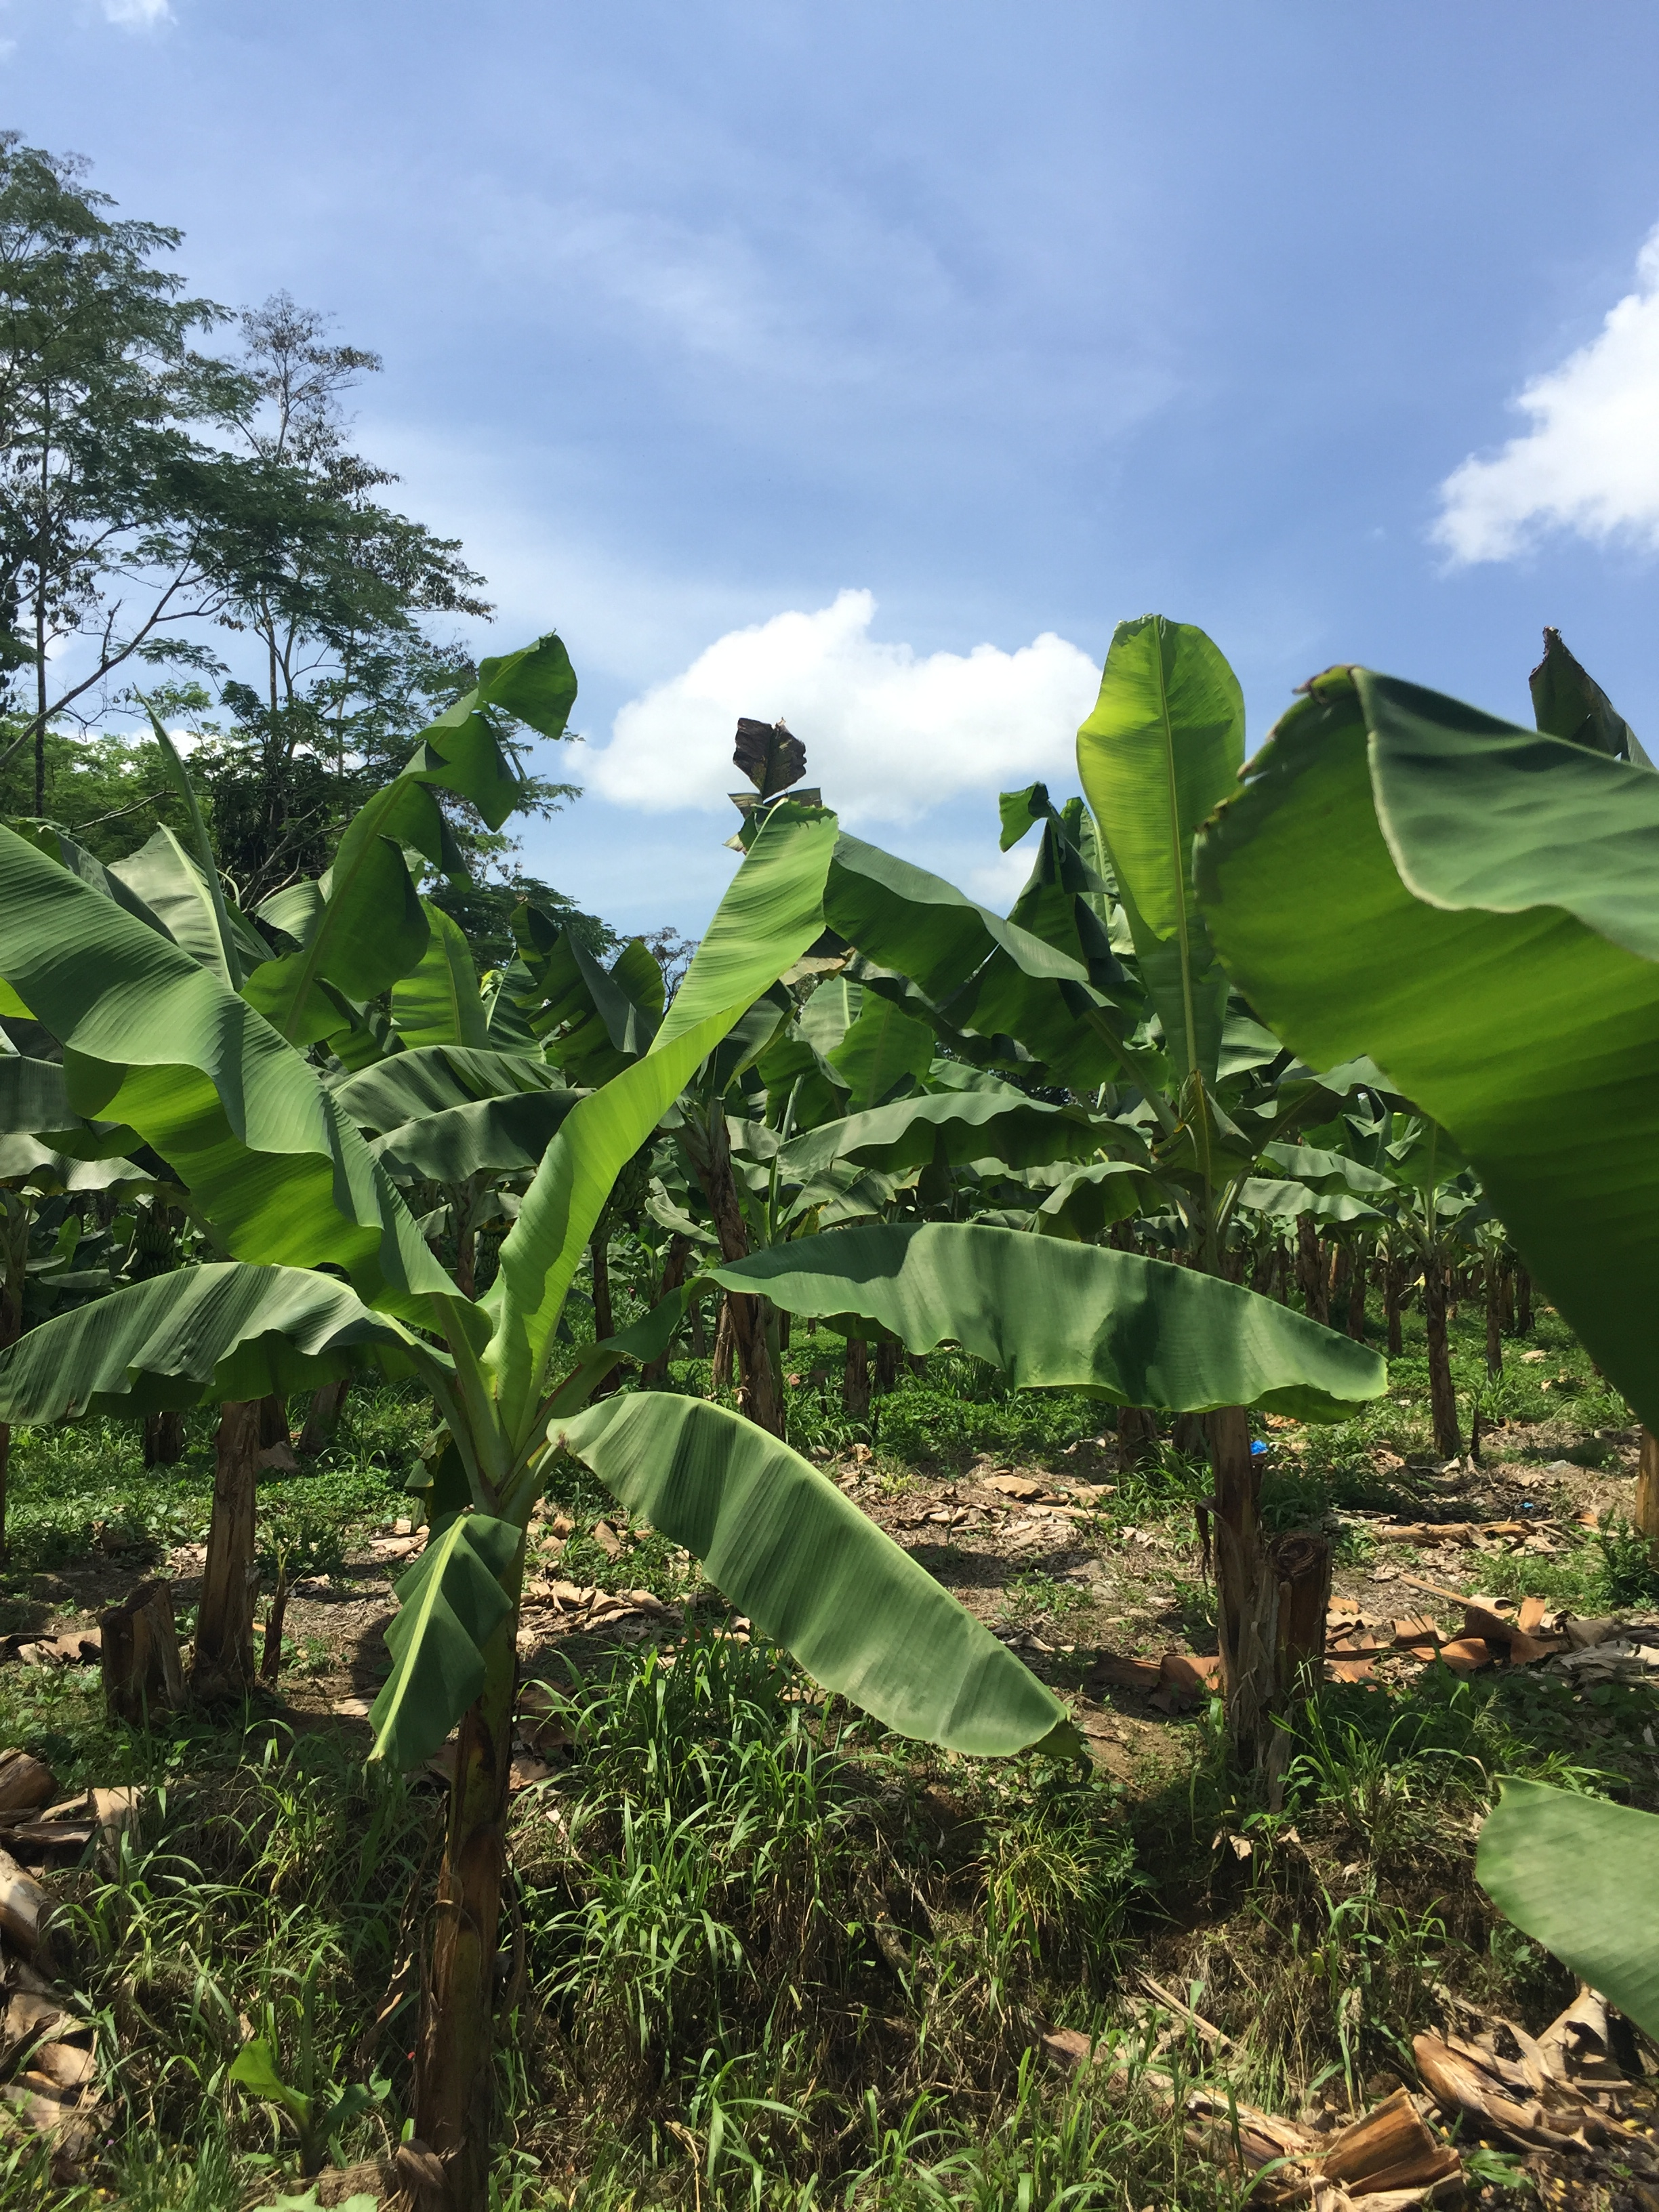candleleafs: (131, 681, 244, 989)
